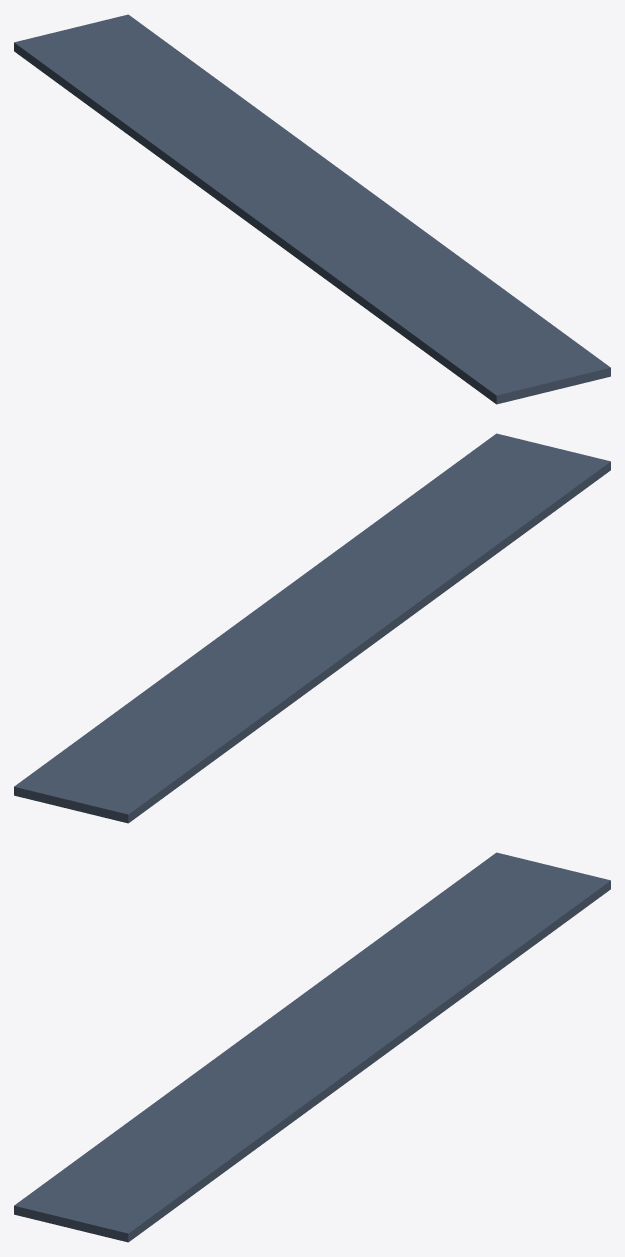
The model's file is floor_016_u_control_floor_12.obj.
3 views of the same model, one above another, from view 1: azimuth 30°, elevation 25°; view 2: azimuth 150°, elevation 25°; view 3: azimuth 330°, elevation 25° (orthographic).
Visible parts, largest first — view 1: Floor_016_u_control_floor_12; view 2: Floor_016_u_control_floor_12; view 3: Floor_016_u_control_floor_12.
Part boxes in pixels (<box>): Floor_016_u_control_floor_12: <box>14,14,610,404</box>; Floor_016_u_control_floor_12: <box>14,433,610,823</box>; Floor_016_u_control_floor_12: <box>14,852,610,1242</box>.
Bounding box in the file's own units: 2.69 × 0.2 × 19.65.
